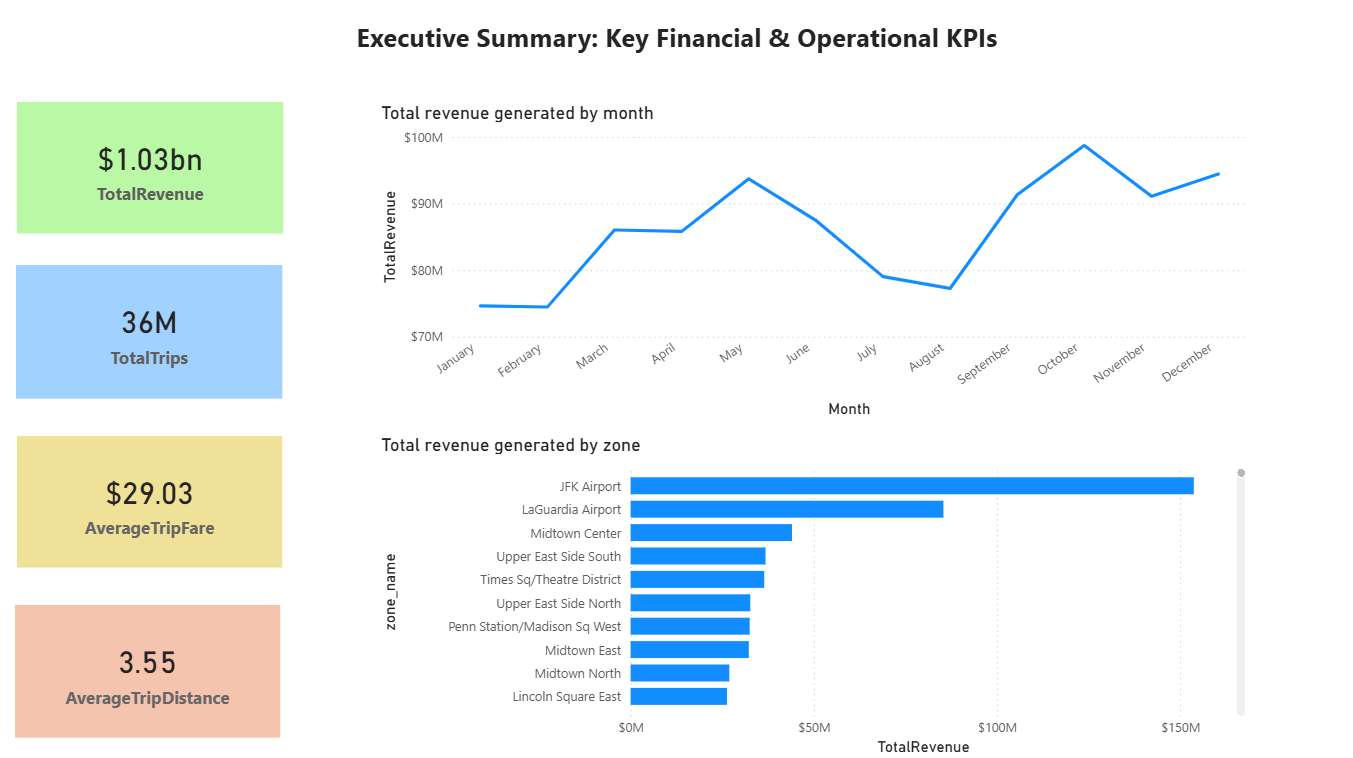

The page's visual inventory and layout, read from the dashboard file:
{"tool":"powerbi","page":{"name":"Executive Summary: KPIs","canvas":[1280,720],"ordinal":0},"visuals":[{"type":"card","fields":{"Values":["Measure_table.TotalRevenue"]},"box":[17.8,98.9,251.1,124.4],"z":0},{"type":"card","fields":{"Values":["Measure_table.TotalTrips"]},"box":[16.7,252.2,251.1,125.6],"z":1000},{"type":"card","fields":{"Values":["Measure_table.AverageTripFare"]},"box":[17.8,413.3,250,124.4],"z":2000},{"type":"card","fields":{"Values":["Measure_table.AverageTripDistance"]},"box":[15.6,573.3,250,125],"z":3000},{"type":"lineChart","title":"Total revenue generated by month","fields":{"Category":["dim_date.date_id.Variation.Date Hierarchy.Year","dim_date.date_id.Variation.Date Hierarchy.Quarter","dim_date.date_id.Variation.Date Hierarchy.Month","dim_date.date_id.Variation.Date Hierarchy.Day"],"Y":["Measure_table.TotalRevenue"]},"box":[356.7,98.9,824.4,302.2],"z":4000},{"type":"clusteredBarChart","title":"Total revenue generated by zone","fields":{"Category":["dim_location.zone_name"],"Y":["Measure_table.TotalRevenue"]},"box":[356.7,412.2,824.4,307.8],"z":5000}]}

Visuals, with their boxes in screenshot pixels (x1, y1, x2, y2), scaled from the page's 1280x720 canvas onto the 1353x758 screenshot:
card - Measure_table.TotalRevenue: 19/104/284/235
card - Measure_table.TotalTrips: 18/266/283/398
card - Measure_table.AverageTripFare: 19/435/283/566
card - Measure_table.AverageTripDistance: 16/604/281/735
"Total revenue generated by month" lineChart: 377/104/1248/422
"Total revenue generated by zone" clusteredBarChart: 377/434/1248/757
